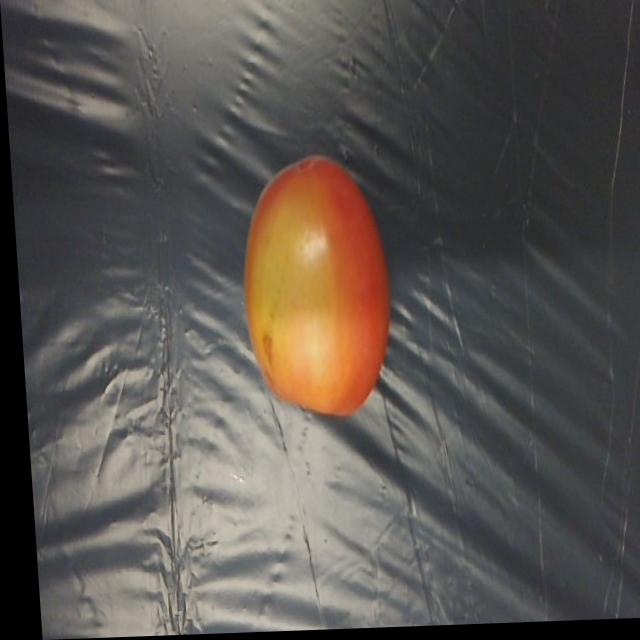sari: (210, 121, 383, 429)
